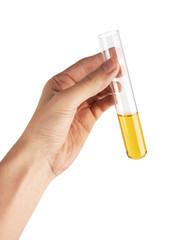Test tube: (93, 25, 151, 163)
